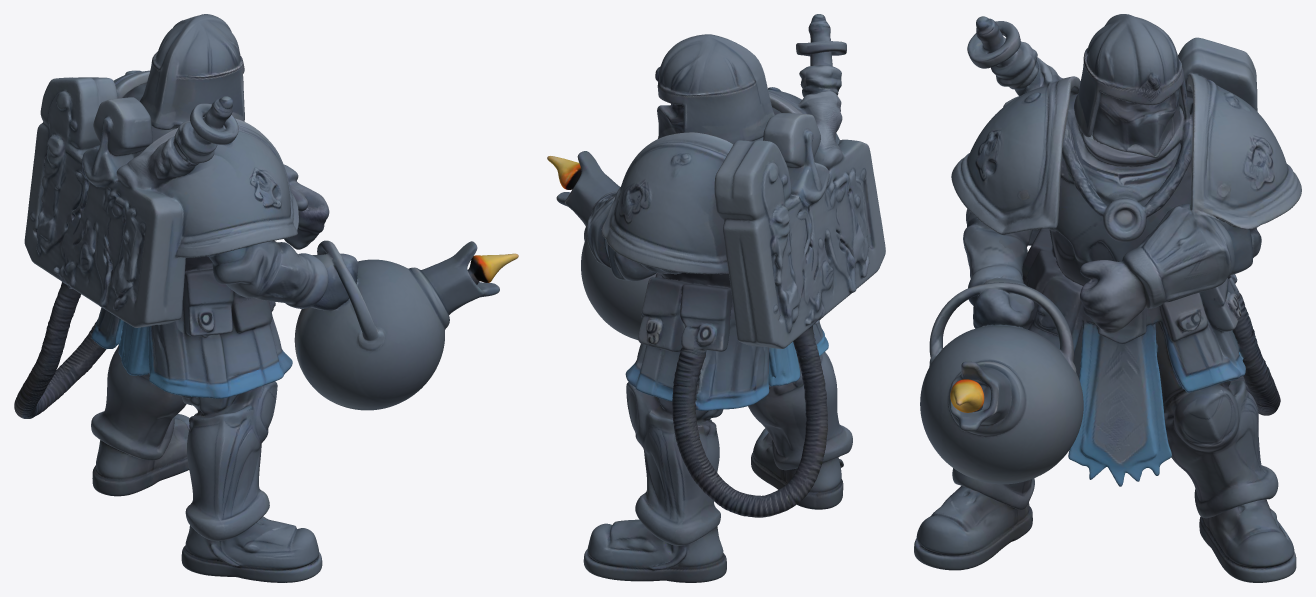
3 views of the same model, side by side, from view 1: azimuth 30°, elevation 25°; view 2: azimuth 150°, elevation 25°; view 3: azimuth 270°, elevation 25° (orthographic). The views are drawn at different scales.
Parts seen in each view (by area): view 1: tripo_node_8d6144de-5321-4f97-9462-9678aca22a1d; view 2: tripo_node_8d6144de-5321-4f97-9462-9678aca22a1d; view 3: tripo_node_8d6144de-5321-4f97-9462-9678aca22a1d.
Boxes of the visible parts, x1=… form: tripo_node_8d6144de-5321-4f97-9462-9678aca22a1d: x1=14, y1=14, x2=518, y2=582; tripo_node_8d6144de-5321-4f97-9462-9678aca22a1d: x1=547, y1=14, x2=885, y2=582; tripo_node_8d6144de-5321-4f97-9462-9678aca22a1d: x1=914, y1=14, x2=1301, y2=582.
Bounding box in the file's own units: 0.8154 × 1 × 0.6562.
Materials: 1 (1 with a texture image).
